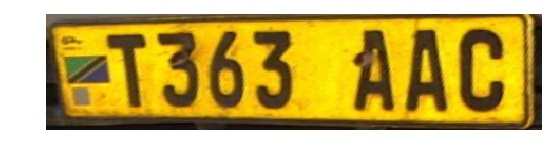T: (103, 28, 152, 113)
